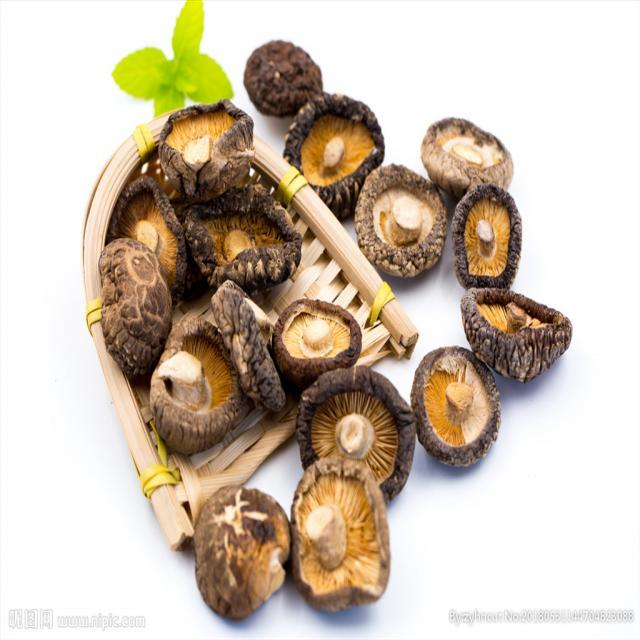Lentinus edodes: (299, 369, 414, 500), (292, 462, 390, 611), (194, 482, 291, 620), (150, 320, 244, 449), (284, 96, 385, 215), (413, 347, 501, 470), (358, 161, 445, 284), (461, 288, 575, 379), (100, 236, 173, 378), (188, 199, 304, 288), (213, 282, 283, 412), (160, 100, 255, 188), (455, 185, 524, 295), (121, 182, 187, 295), (272, 300, 362, 374), (424, 118, 512, 191), (243, 39, 322, 113)
